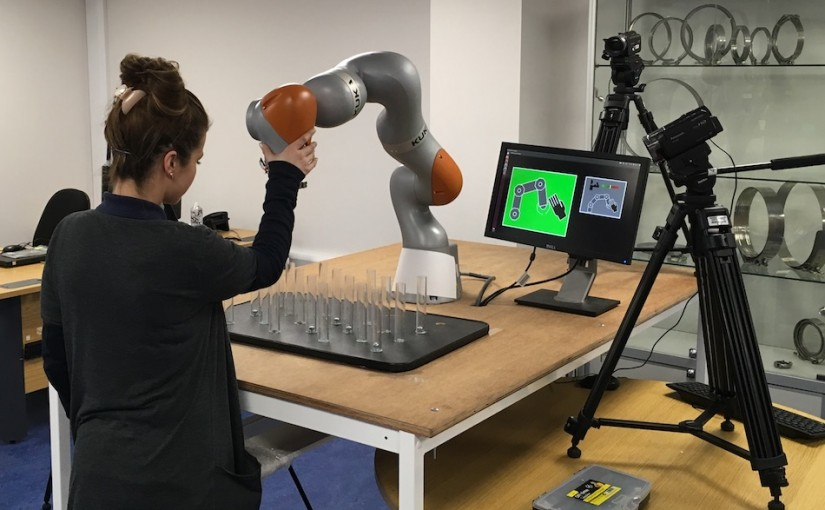person: (39, 54, 321, 510)
robot: (245, 49, 465, 305)
